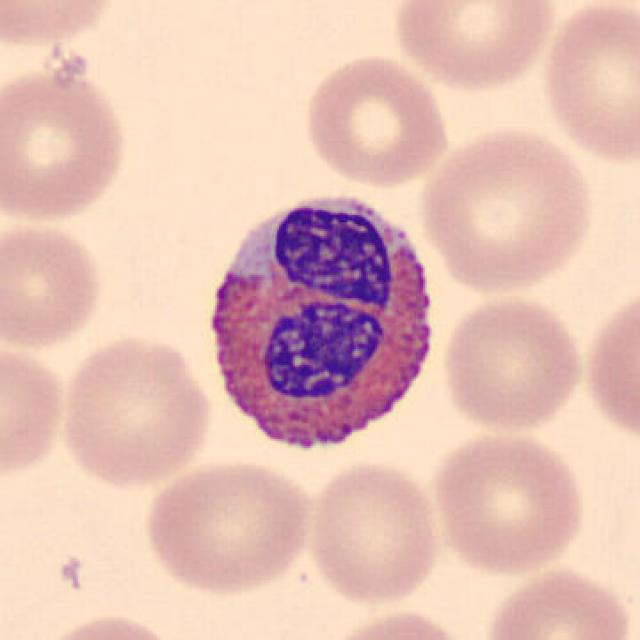Eosinophil: (190, 175, 452, 474)
RBC: (414, 122, 598, 298), (53, 330, 215, 492), (139, 455, 318, 598), (427, 427, 590, 578), (0, 61, 133, 227), (438, 291, 588, 435), (299, 51, 453, 191), (304, 457, 446, 608), (536, 0, 638, 167), (387, 0, 560, 93), (0, 215, 107, 353), (480, 562, 635, 640), (579, 278, 640, 451), (0, 336, 69, 486), (0, 0, 124, 51), (316, 606, 474, 640), (32, 610, 185, 640)
